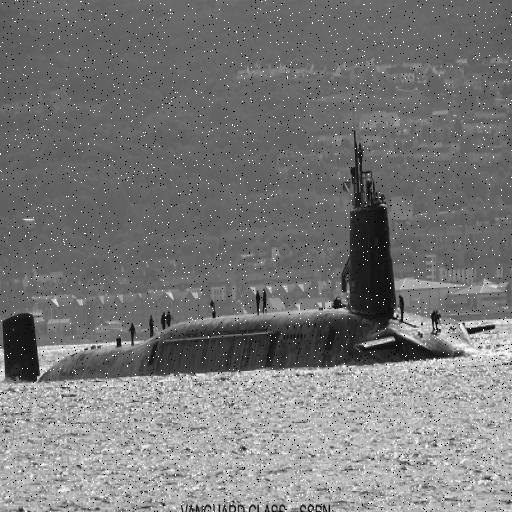submarine: (1, 111, 478, 357)
